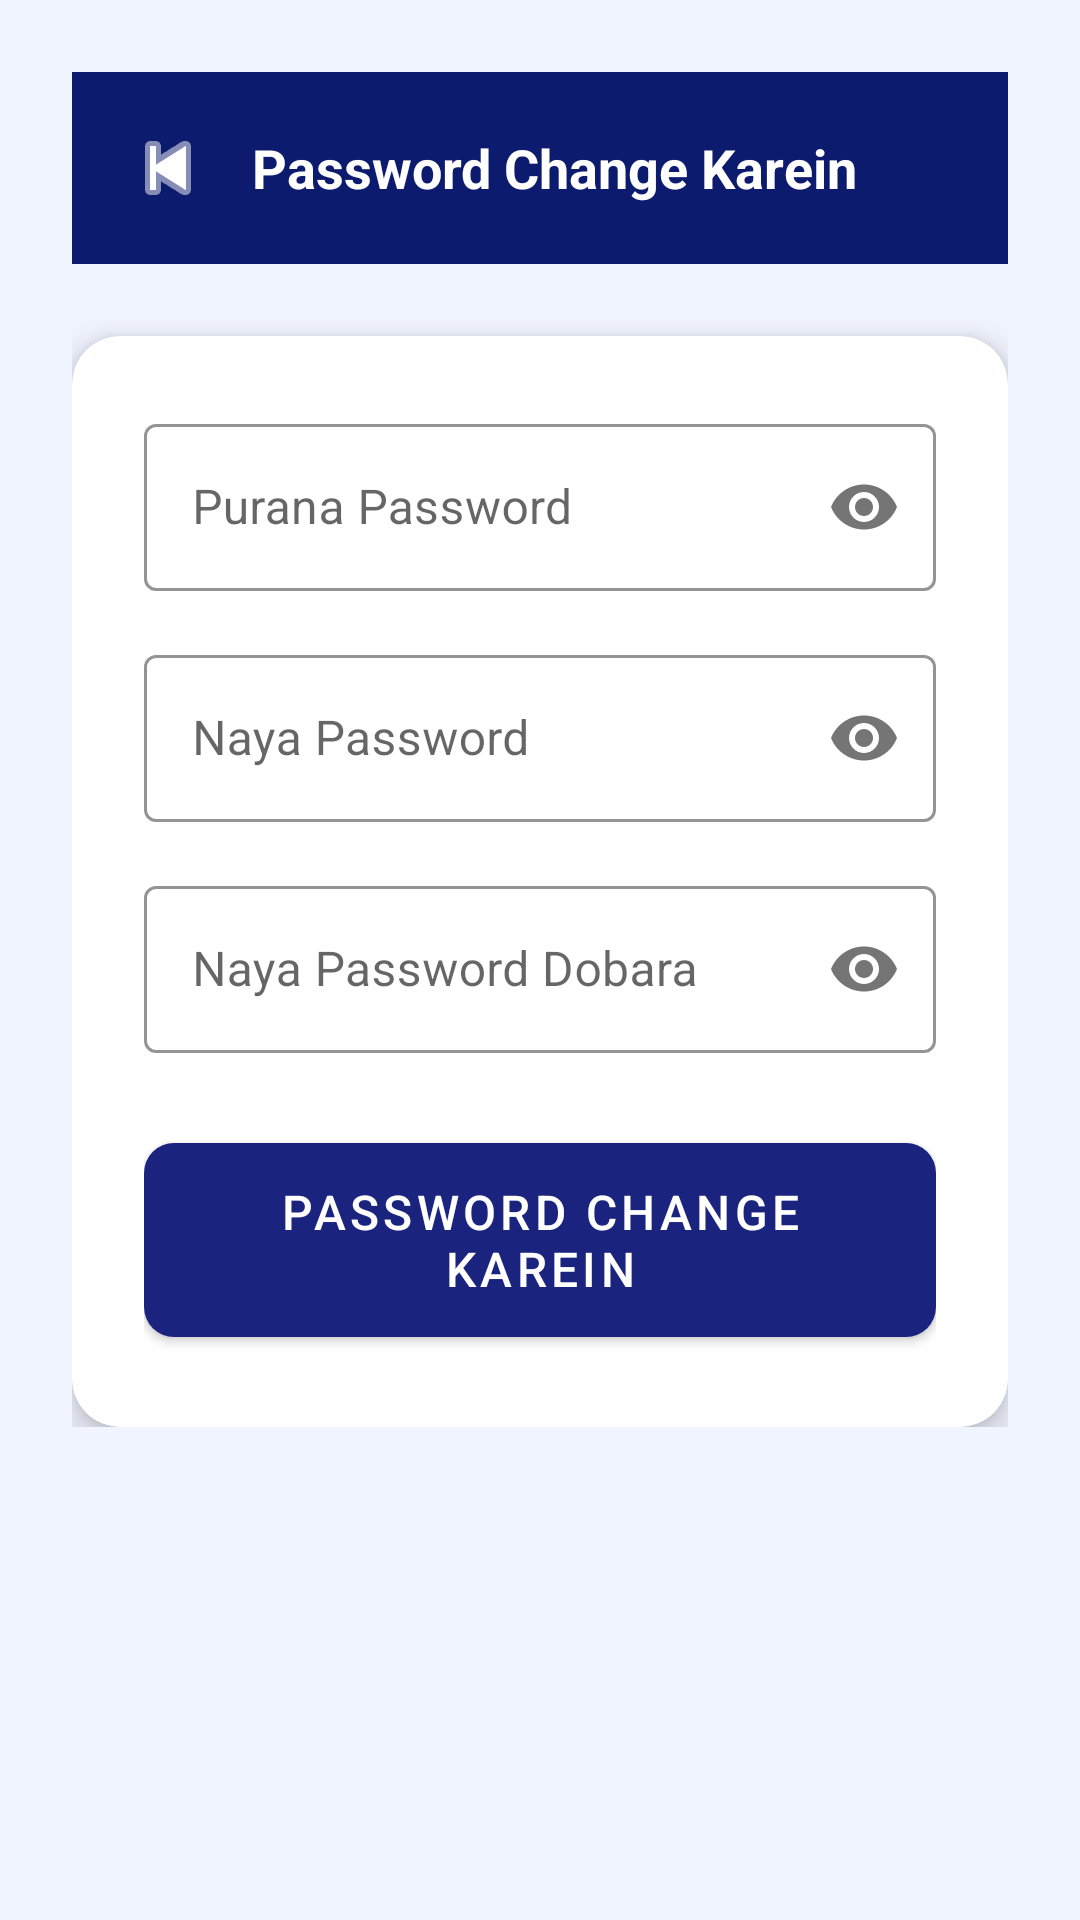

Icons on this 1080x1920 Android screen, each with the point to tap as (x,y):
previous: (168,168)
